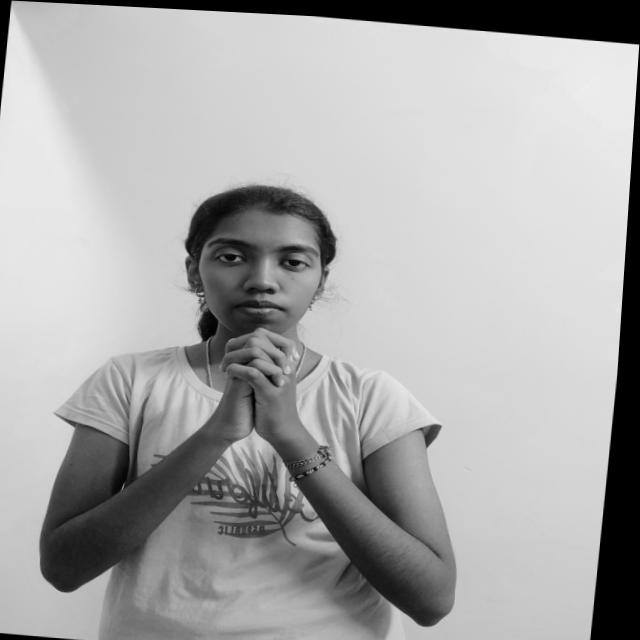Sorry: (202, 315, 323, 454)
